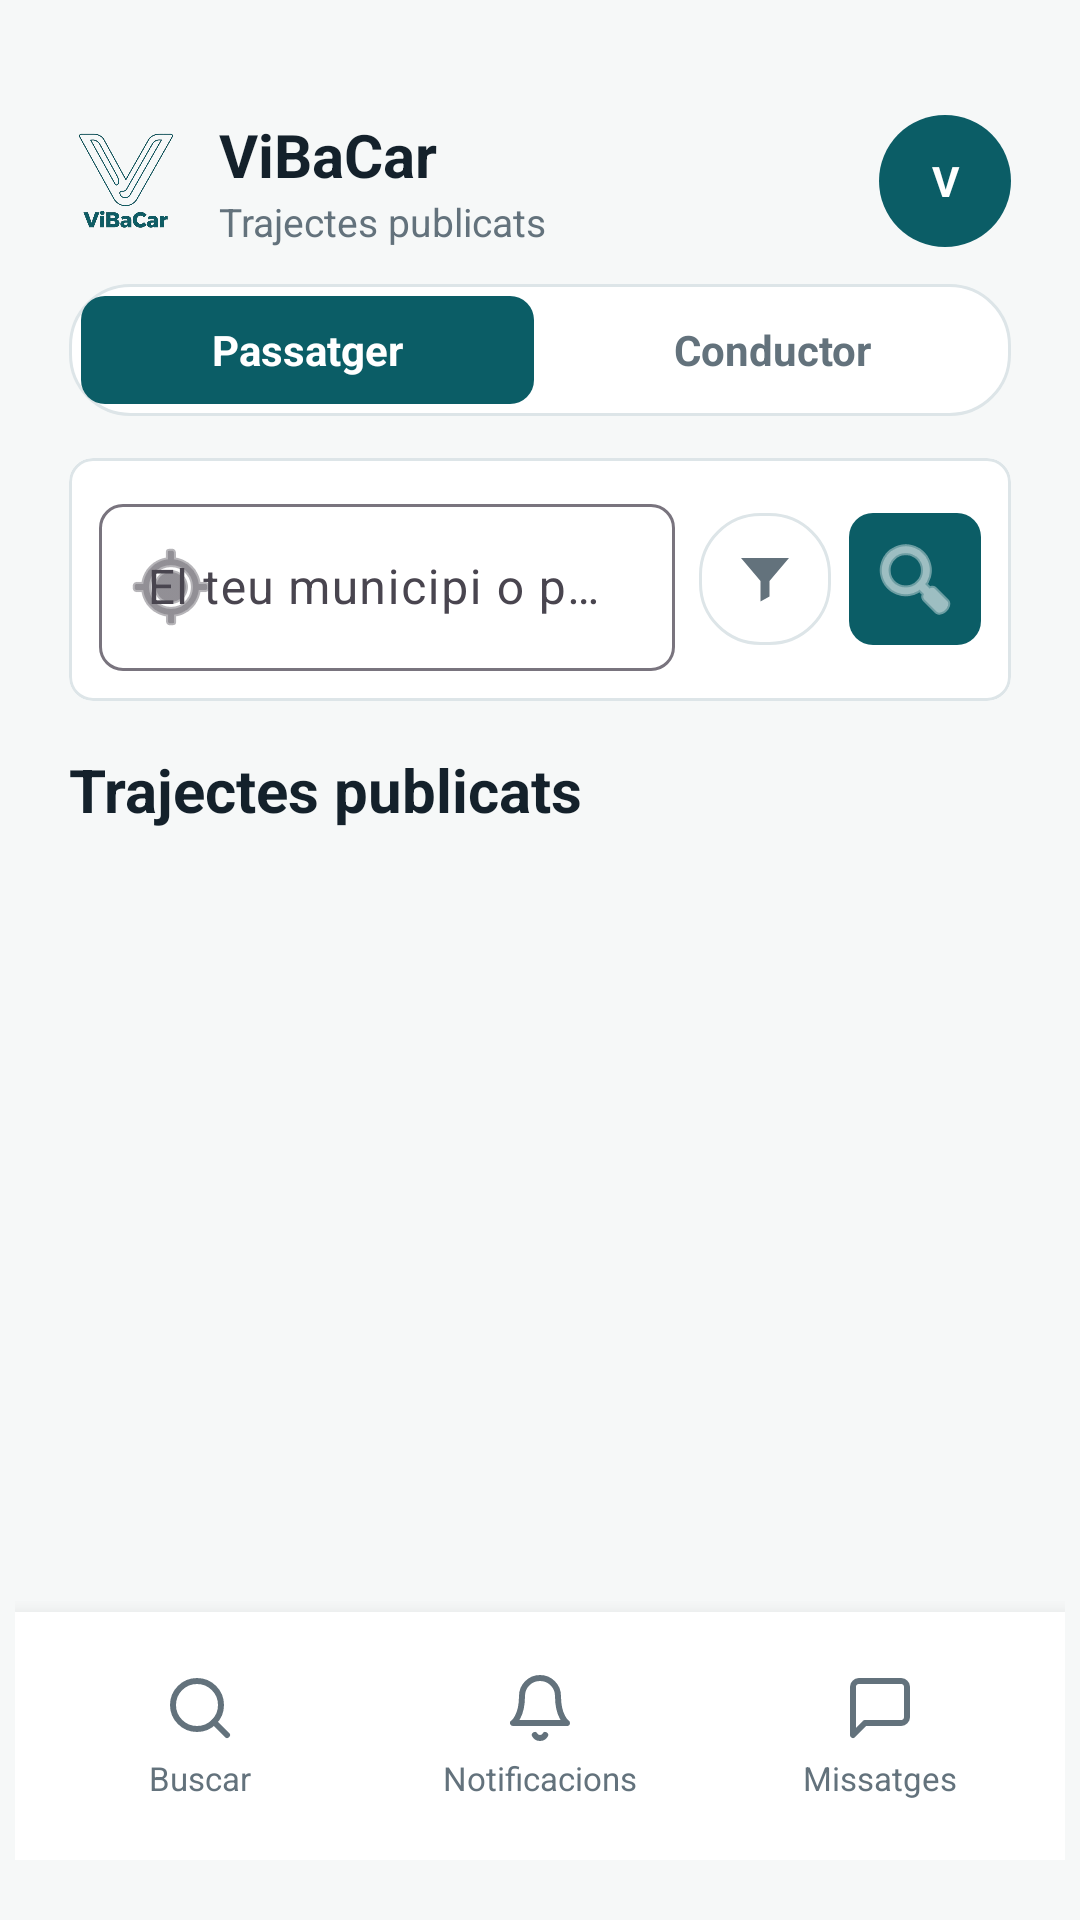

Icon click points for this 1080*1920 phone screenshot, format [x,y]:
Cercar: [915,579]
Filtres: [765,579]
